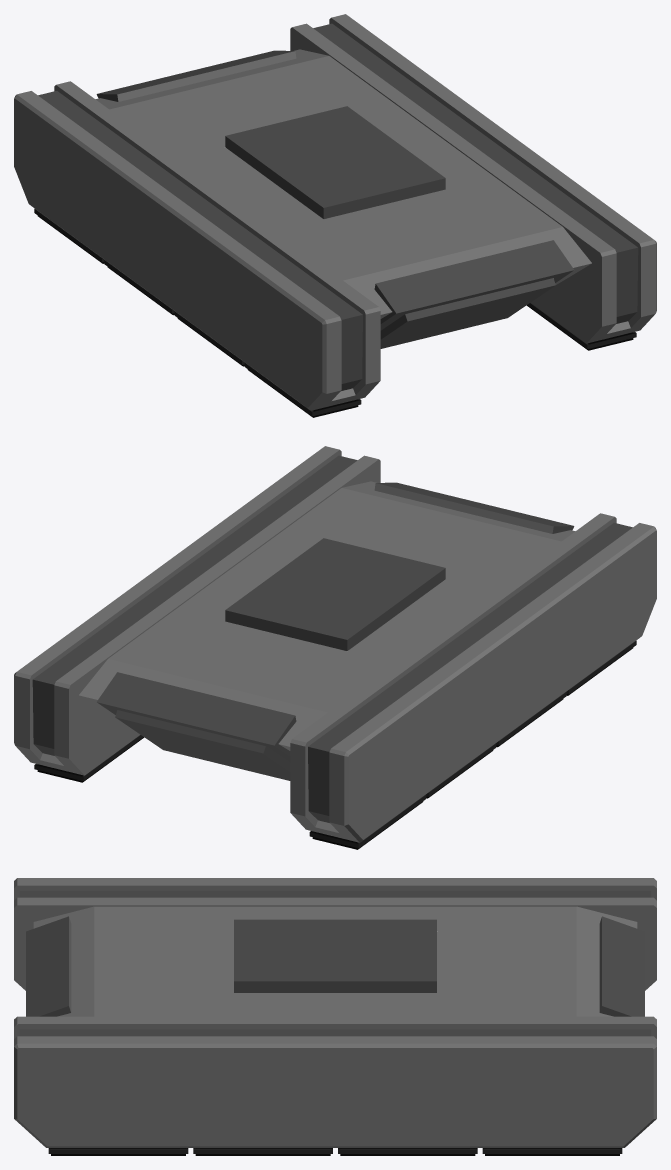
The model's file is Hover.fbx.
3 renders of one model, top to bottom at view 1: azimuth 30°, elevation 25°; view 2: azimuth 150°, elevation 25°; view 3: azimuth 270°, elevation 25°, orthographic. The views are drawn at different scales.
Parts seen in each view (by area): view 1: Cube.004; view 2: Cube.004; view 3: Cube.004.
Part boxes in pixels (x1,y1,x2,y2): Cube.004: (14, 14, 656, 417); Cube.004: (14, 446, 656, 849); Cube.004: (14, 878, 656, 1155).
Bounding box in the file's own units: 248 × 85.63 × 400.
1 material, 1 textured.
